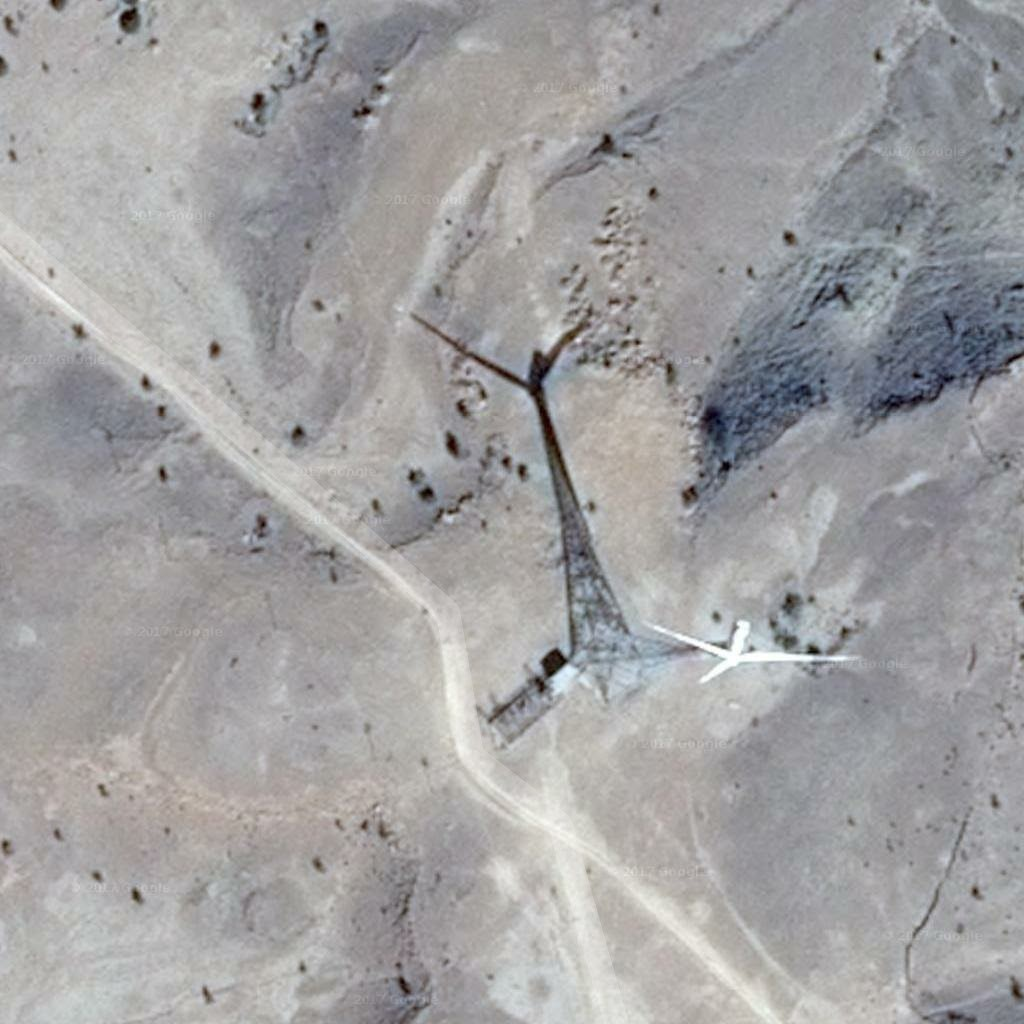Windmill: (401, 299, 674, 635)
